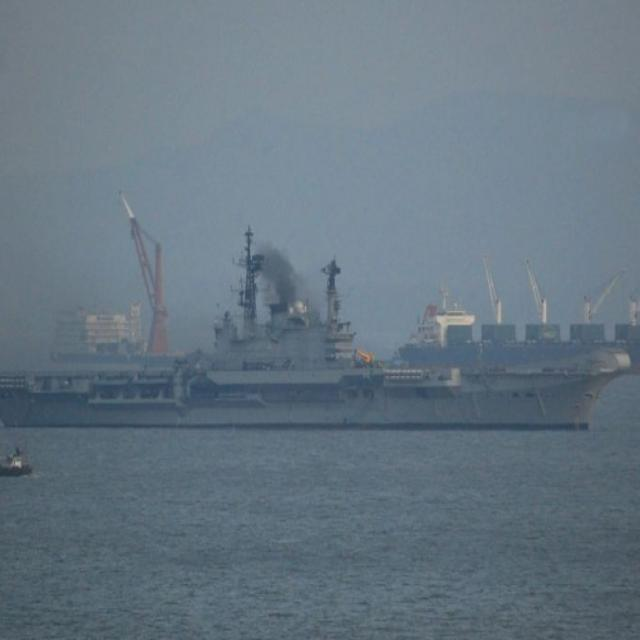Portanaves: (1, 216, 640, 446)
